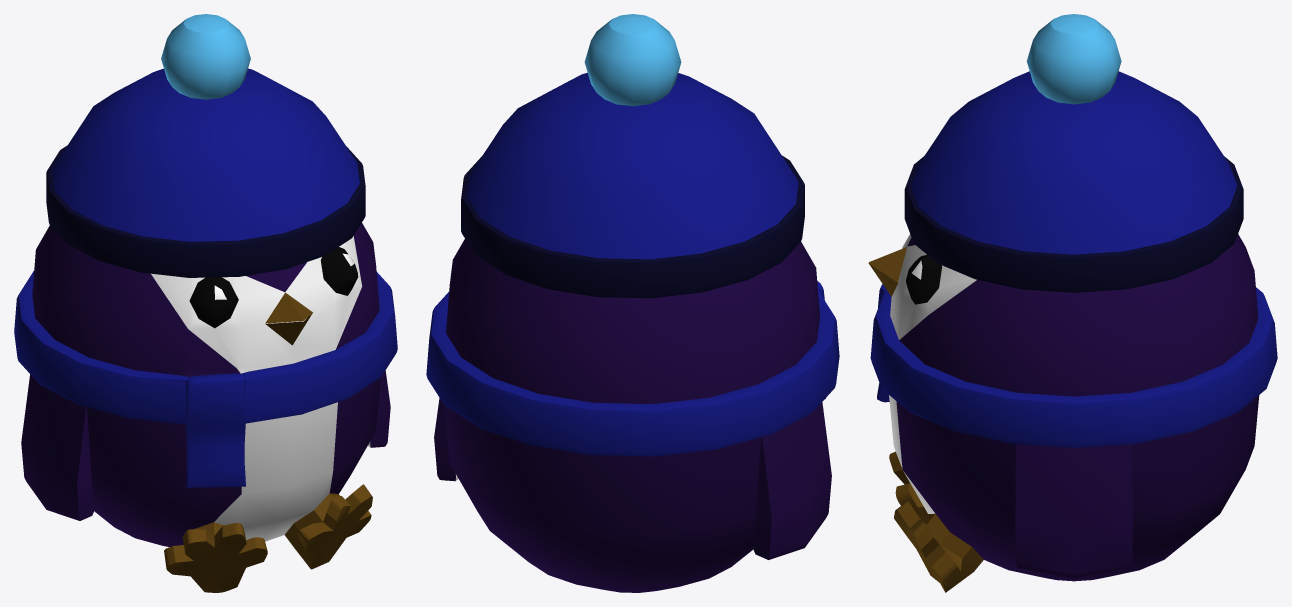
The model's file is baby penguin.fbx.
3 views of the same model, side by side, from view 1: azimuth 30°, elevation 25°; view 2: azimuth 150°, elevation 25°; view 3: azimuth 270°, elevation 25° (orthographic). The views are drawn at different scales.
Parts seen in each view (by area): view 1: Baby, Right Arm, Left arm, Top Beak, Bottom Beak; view 2: Baby, Right Arm, Left arm; view 3: Baby, Left arm, Top Beak.
Part boxes in pixels (box(x1,y1,x2,y2)): Baby: box(14, 14, 397, 592); Right Arm: box(21, 374, 93, 520); Left arm: box(368, 371, 390, 447); Top Beak: box(265, 292, 312, 323); Bottom Beak: box(266, 314, 311, 345); Baby: box(426, 14, 839, 592); Right Arm: box(753, 402, 831, 559); Left arm: box(434, 398, 458, 481); Baby: box(870, 14, 1277, 592); Left arm: box(1015, 444, 1132, 577); Top Beak: box(869, 247, 906, 282).
Size of the model in its own units: 51.49 by 76.32 by 51.78.
